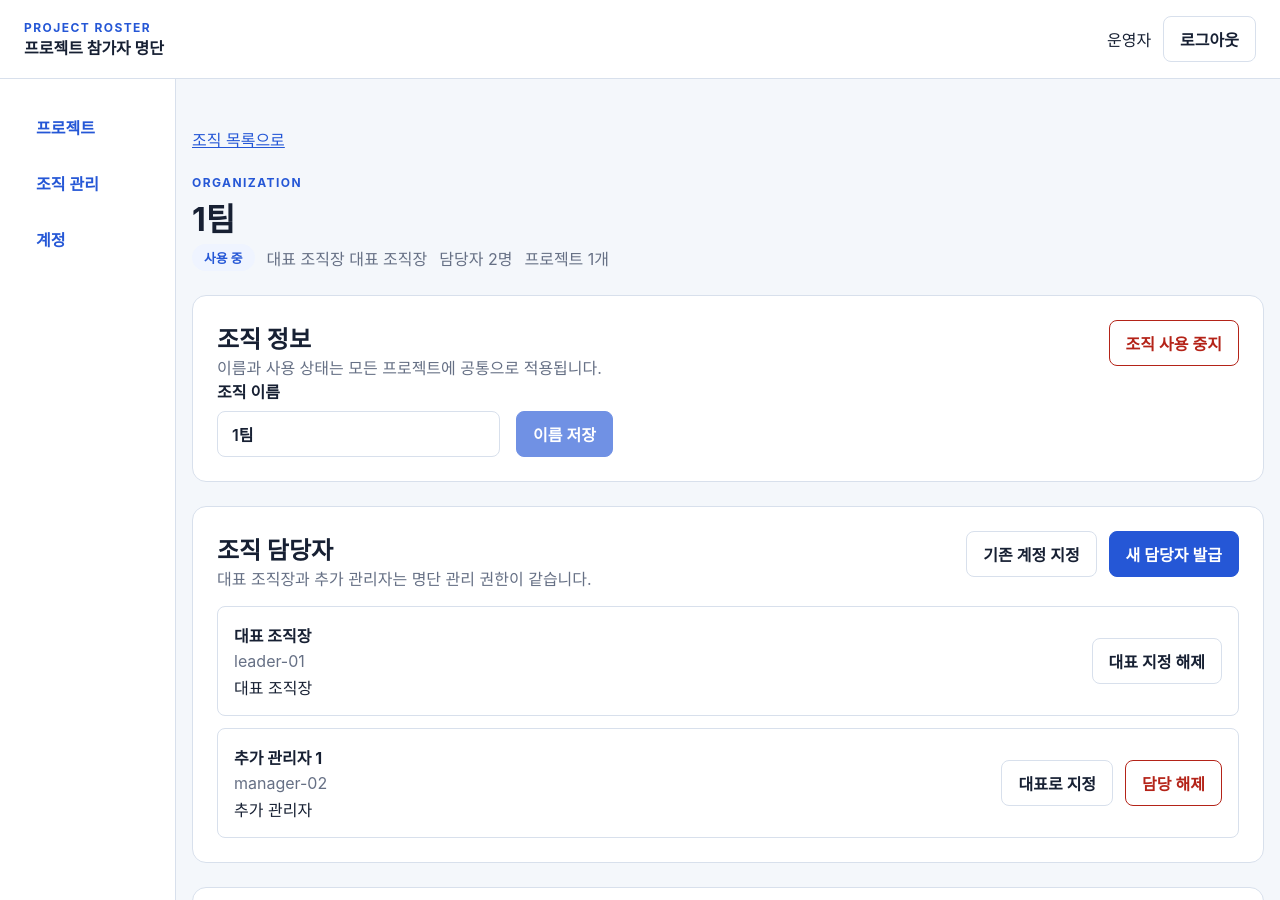
Test: edits organization state, renders projects, and paginates audit history
Replace the text in the field labelled "조직 이름" with "운영팀" at [358, 434], box [217,411,500,457]
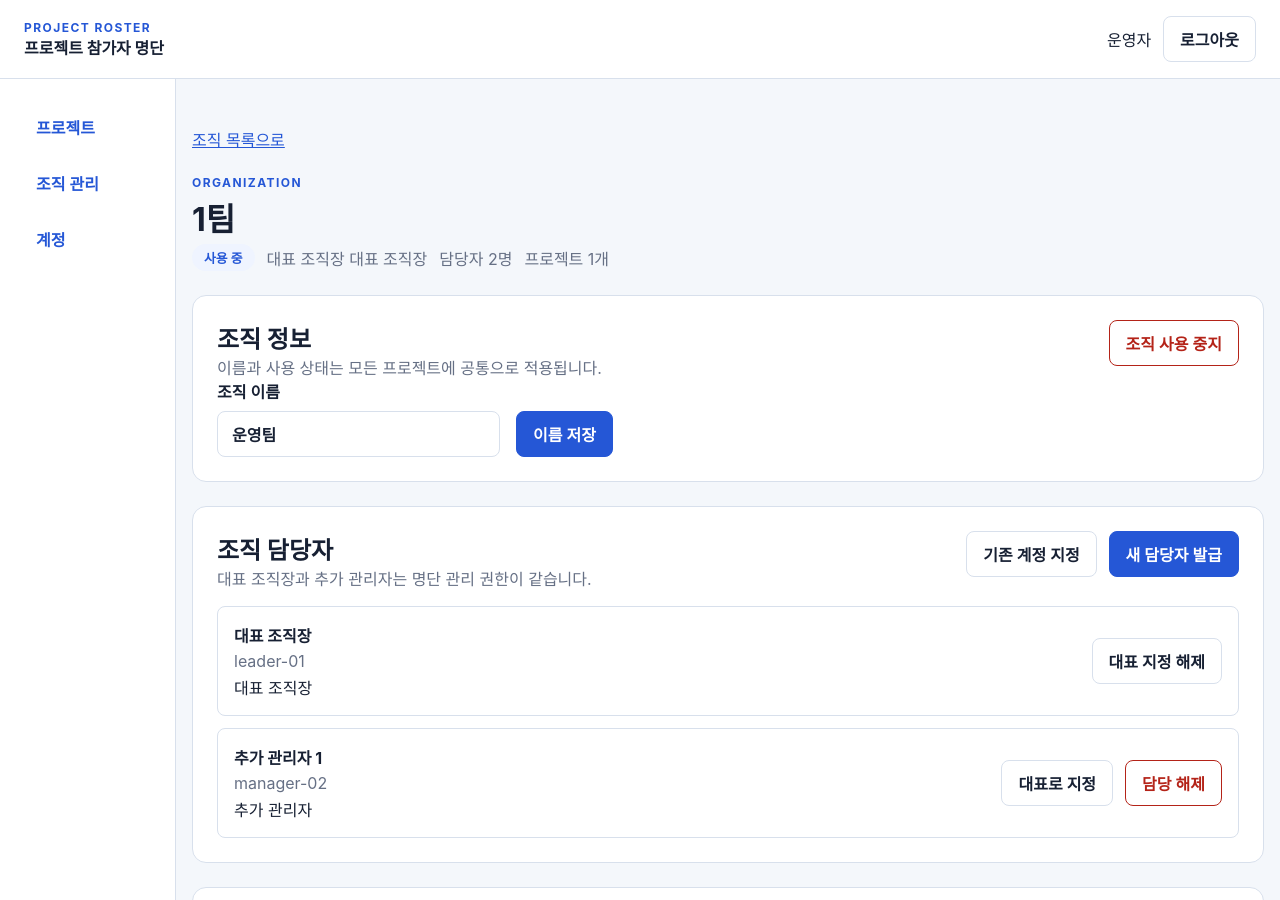
Click the button "이름 저장" at [564, 434], box [516,411,613,457]
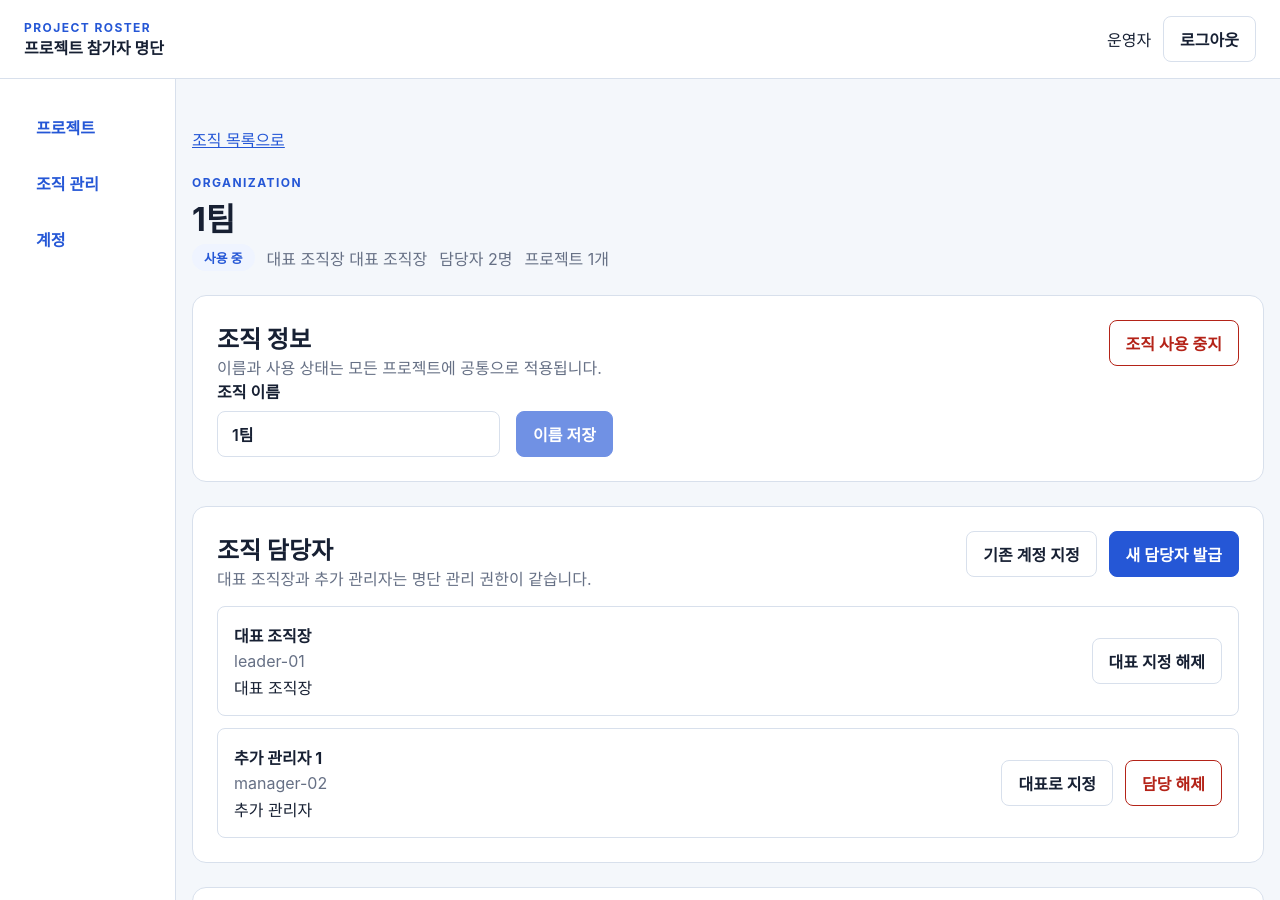
Click the button "조직 사용 중지" at [1174, 343], box [1109,320,1239,366]
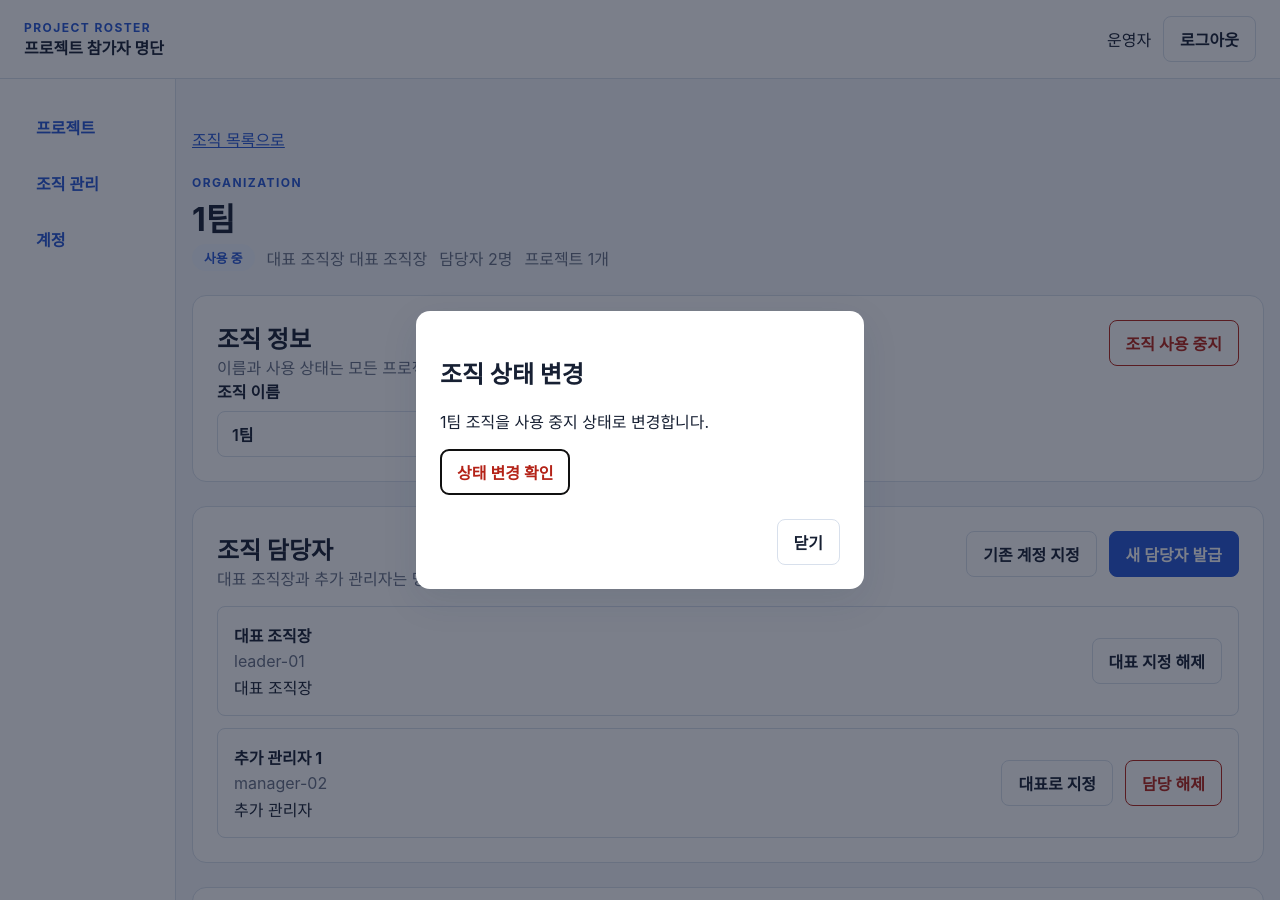
Click the button "상태 변경 확인" at [505, 472], box [440,449,570,495]
(page scrolled)
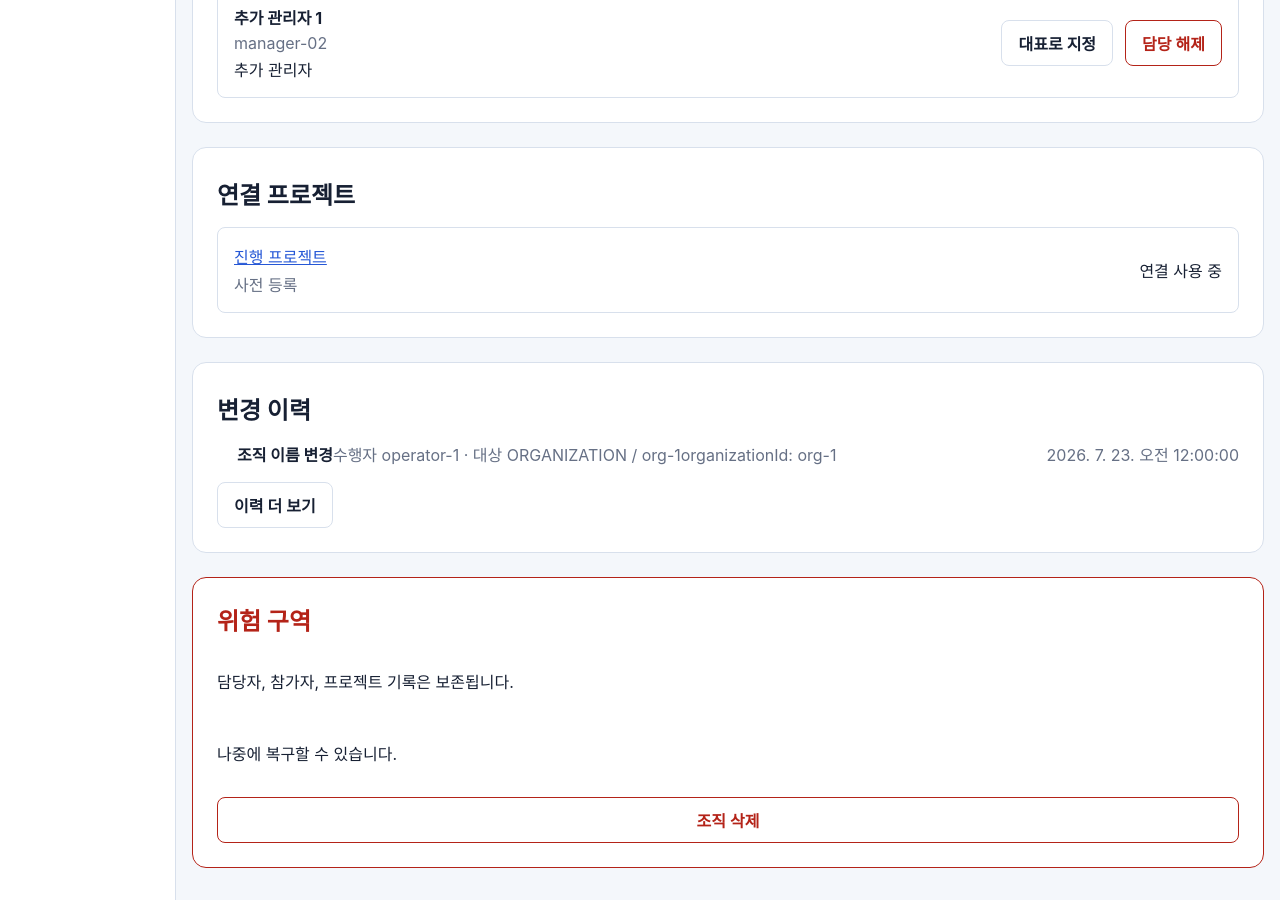
Expected: the text "조직 이름 변경" is shown, [237,445,333,465]
Click the button "이력 더 보기" at [275, 505], box [217,482,333,528]
(page scrolled)
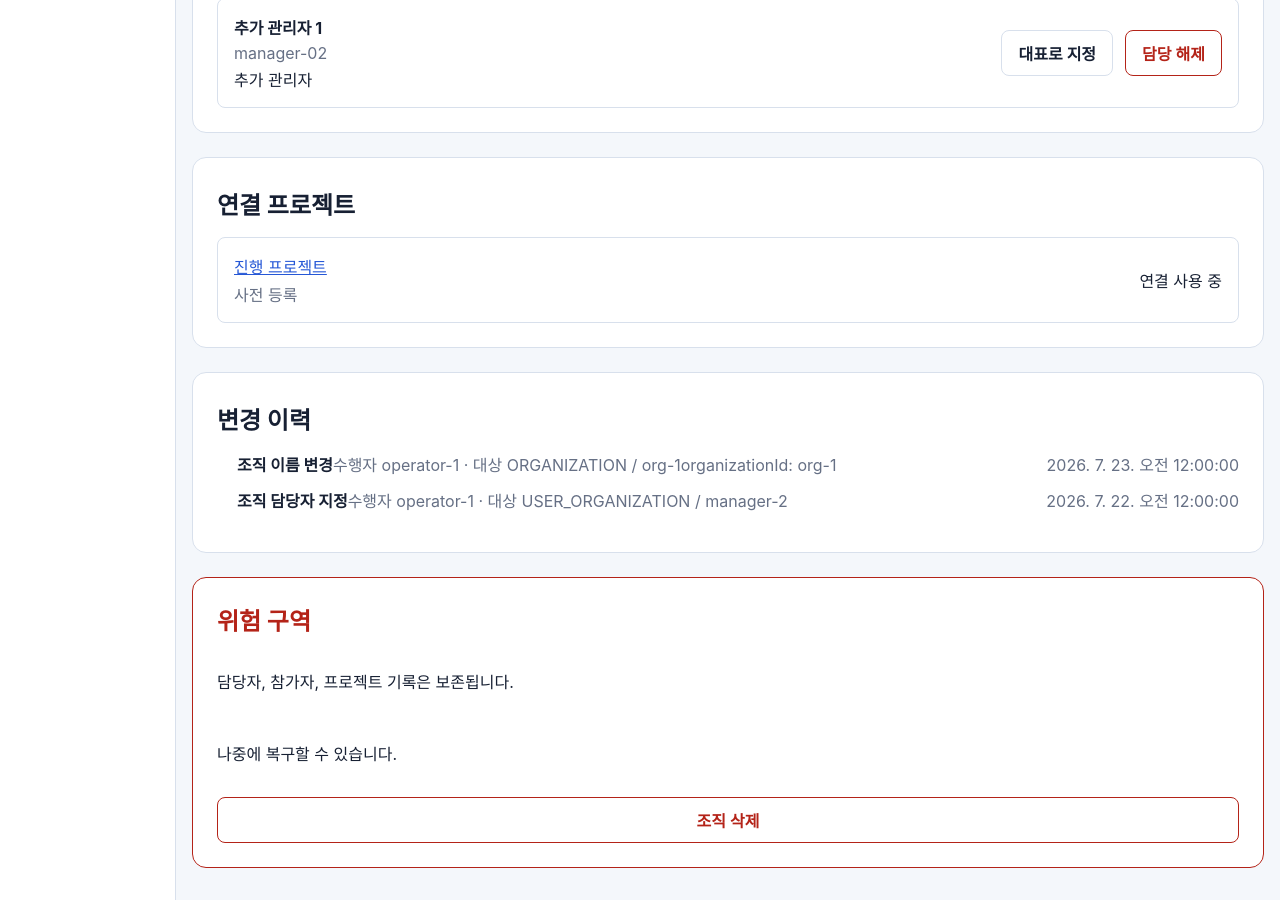
Now the text "조직 담당자 지정" is shown, box [237,491,348,511]
